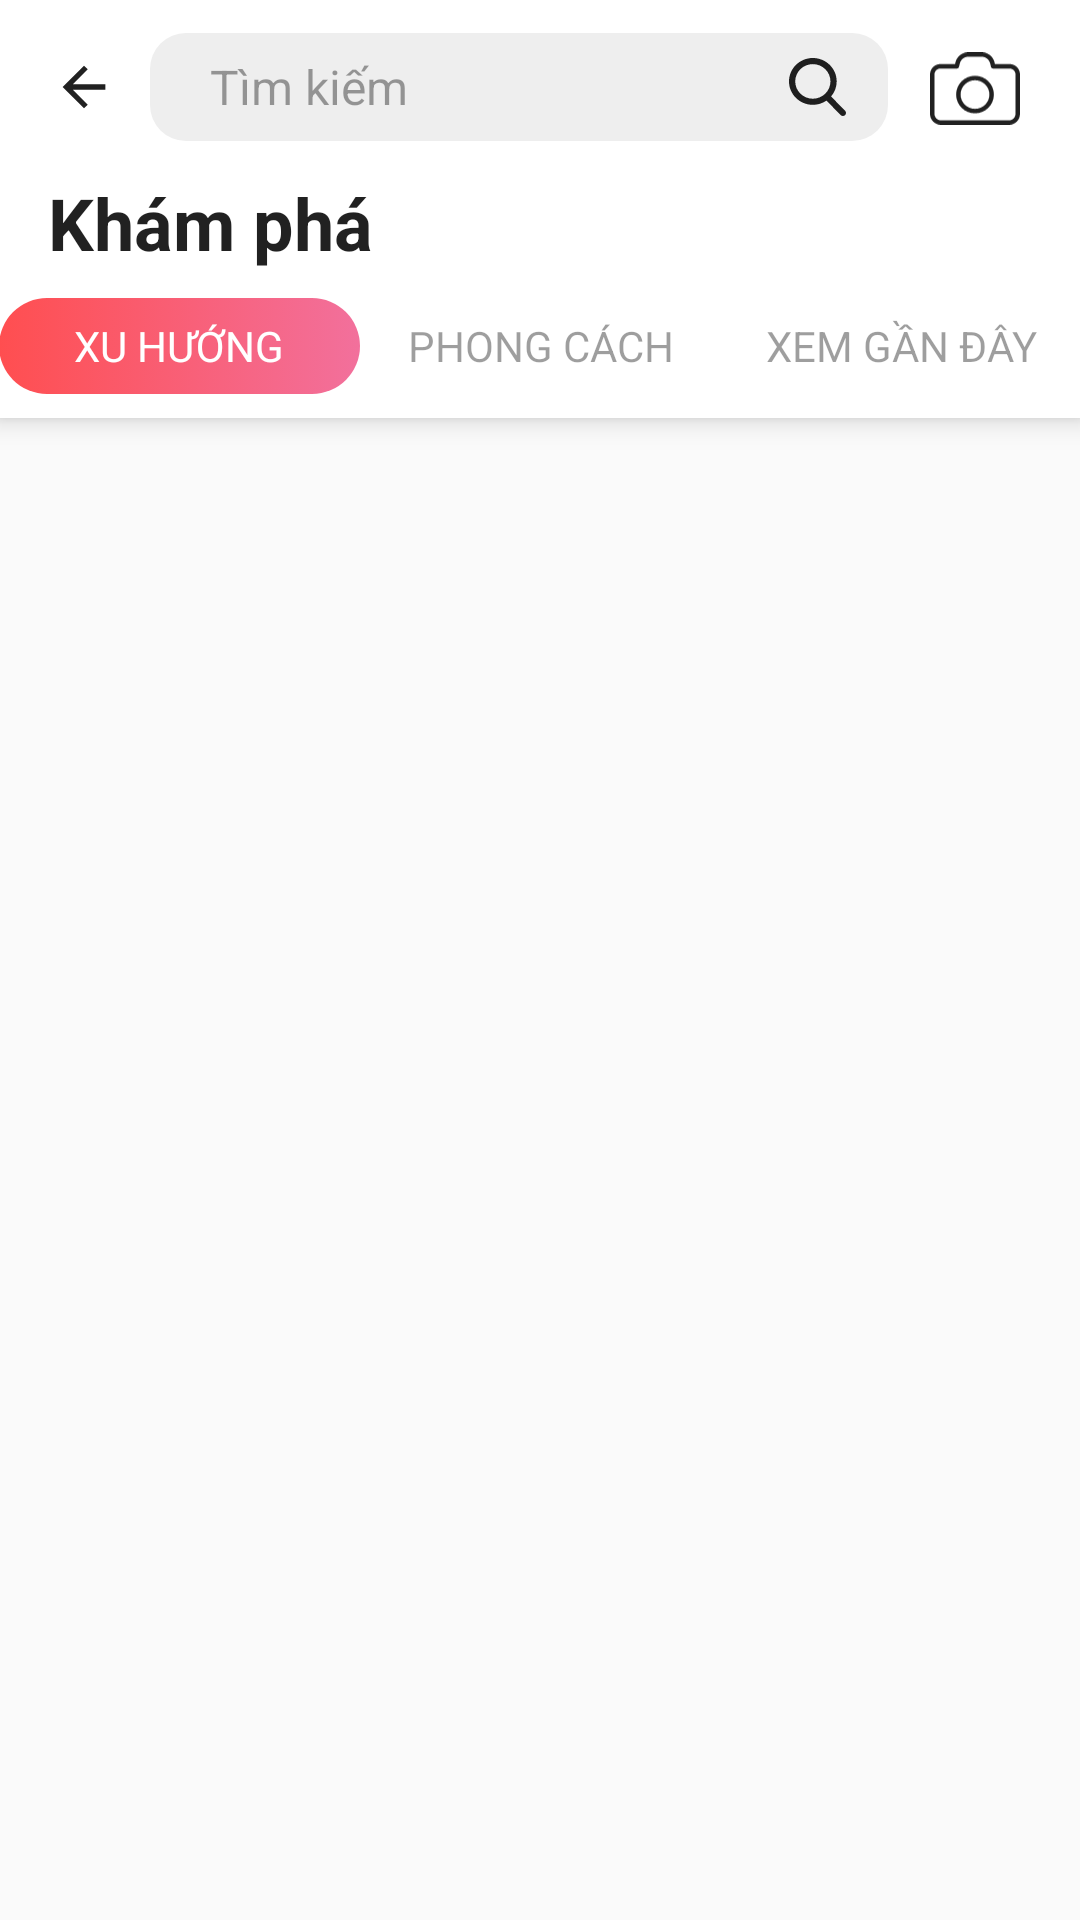

Icons on this 1080×1920 Android screen, each with its box as (x1, y1, x2, y2):
arrow back: (63, 66, 106, 108)
camera: (930, 52, 1020, 125)
search: (789, 58, 846, 116)
